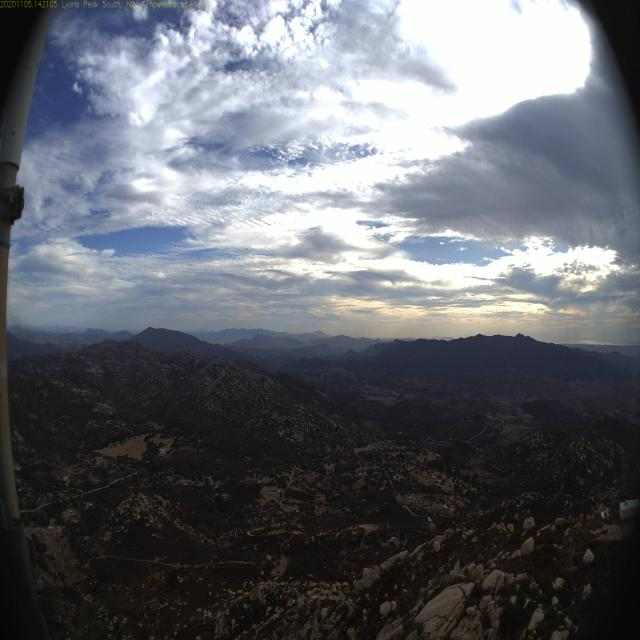smoke: (8, 314, 51, 348)
